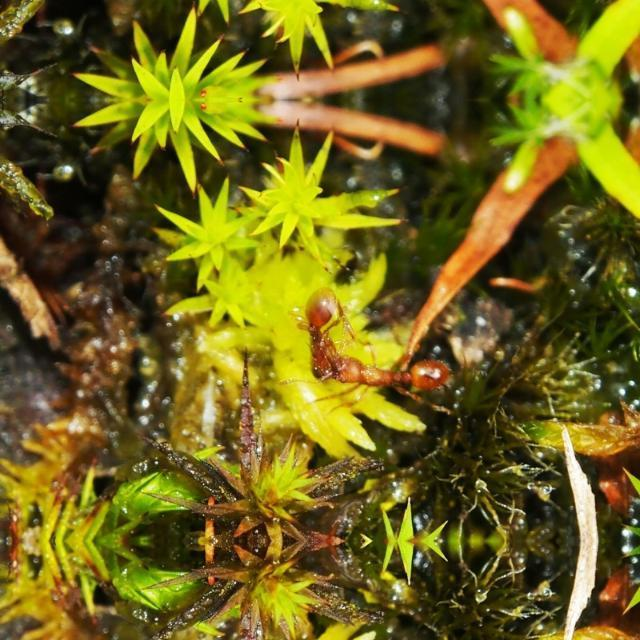Myrmica: (322, 348, 472, 394), (291, 279, 345, 397)
